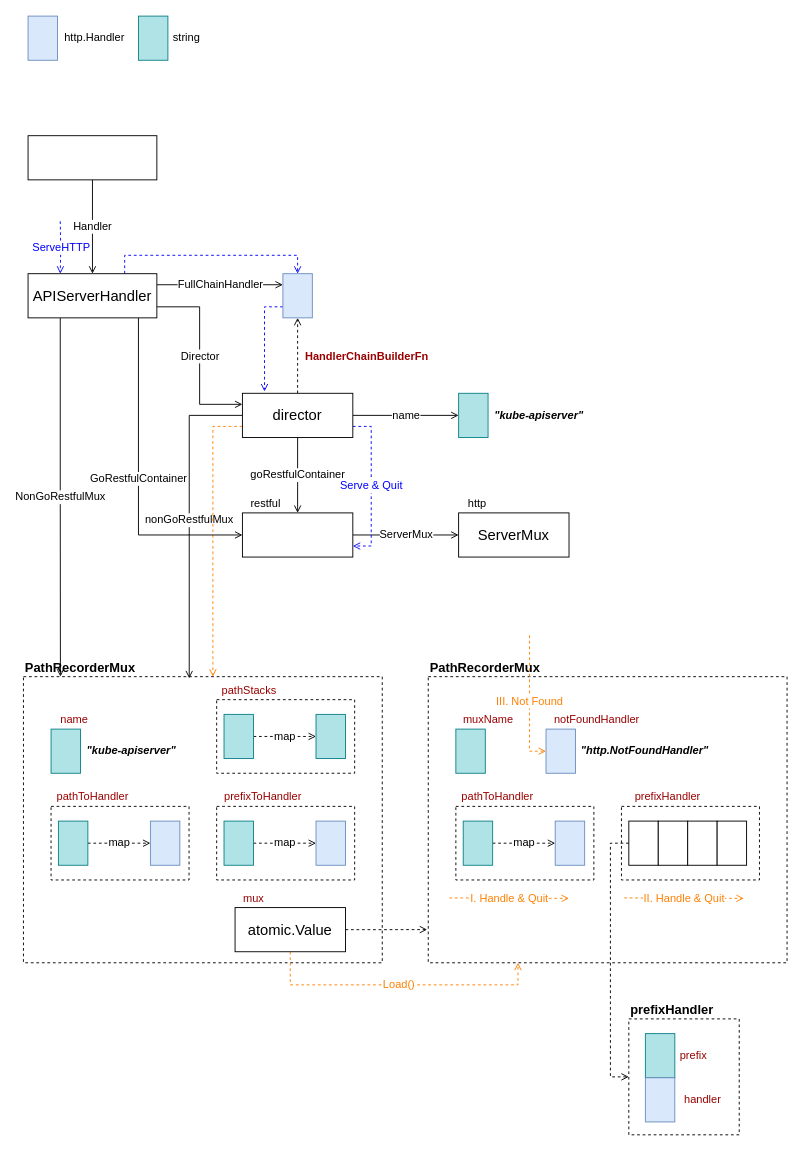
Image size: 804x1151. Some labels were removed from this diagram. Here are the shapes that lost their labels. From the top down, the centre of each, then its label:
point (92, 157): GenericAPIServer
point (297, 534): Container
